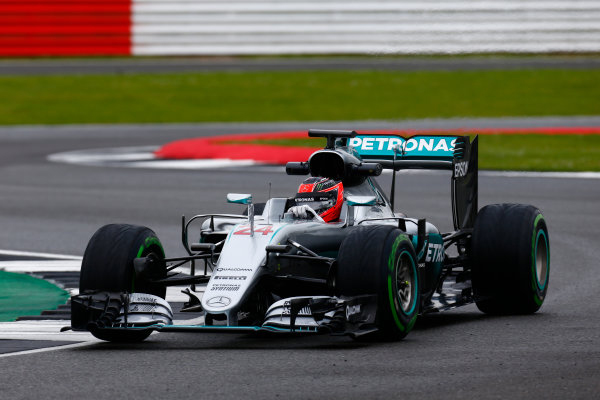F1 Car: (64, 128, 556, 352)
